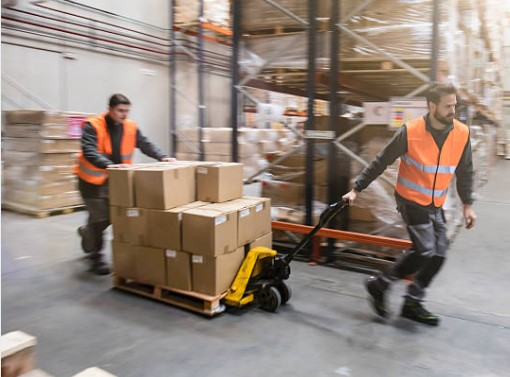stock: (185, 208, 237, 256)
worker: (397, 82, 469, 205), (78, 95, 134, 180)
